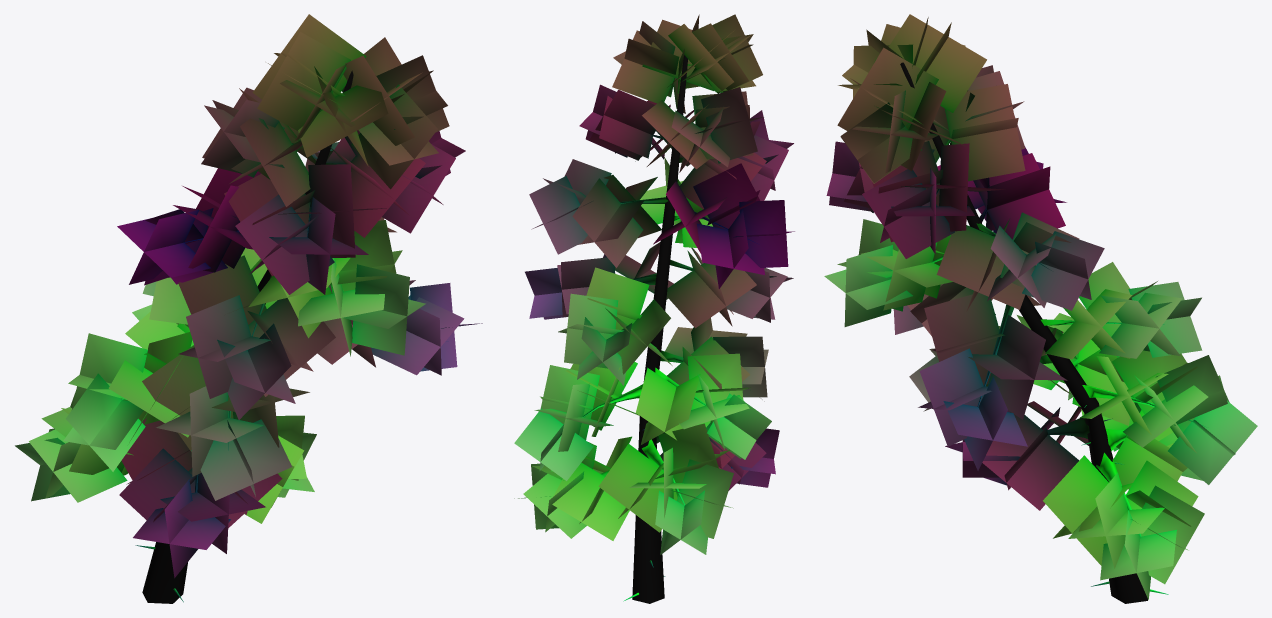
The model's file is URP_P7_Tree_5_LOD_3.fbx.
The picture shows the model from 3 angles, left to right: view 1: azimuth 30°, elevation 25°; view 2: azimuth 150°, elevation 25°; view 3: azimuth 270°, elevation 25°; orthographic projection. The views are drawn at different scales.
Visible parts, largest first — view 1: Tree_5_LOD_3; view 2: Tree_5_LOD_3; view 3: Tree_5_LOD_3.
Part boxes in pixels (x1,y1,x2,y2): Tree_5_LOD_3: (15,14,482,603); Tree_5_LOD_3: (514,14,794,603); Tree_5_LOD_3: (824,14,1257,603).
Size of the model in its own units: 286 by 491 by 323.
